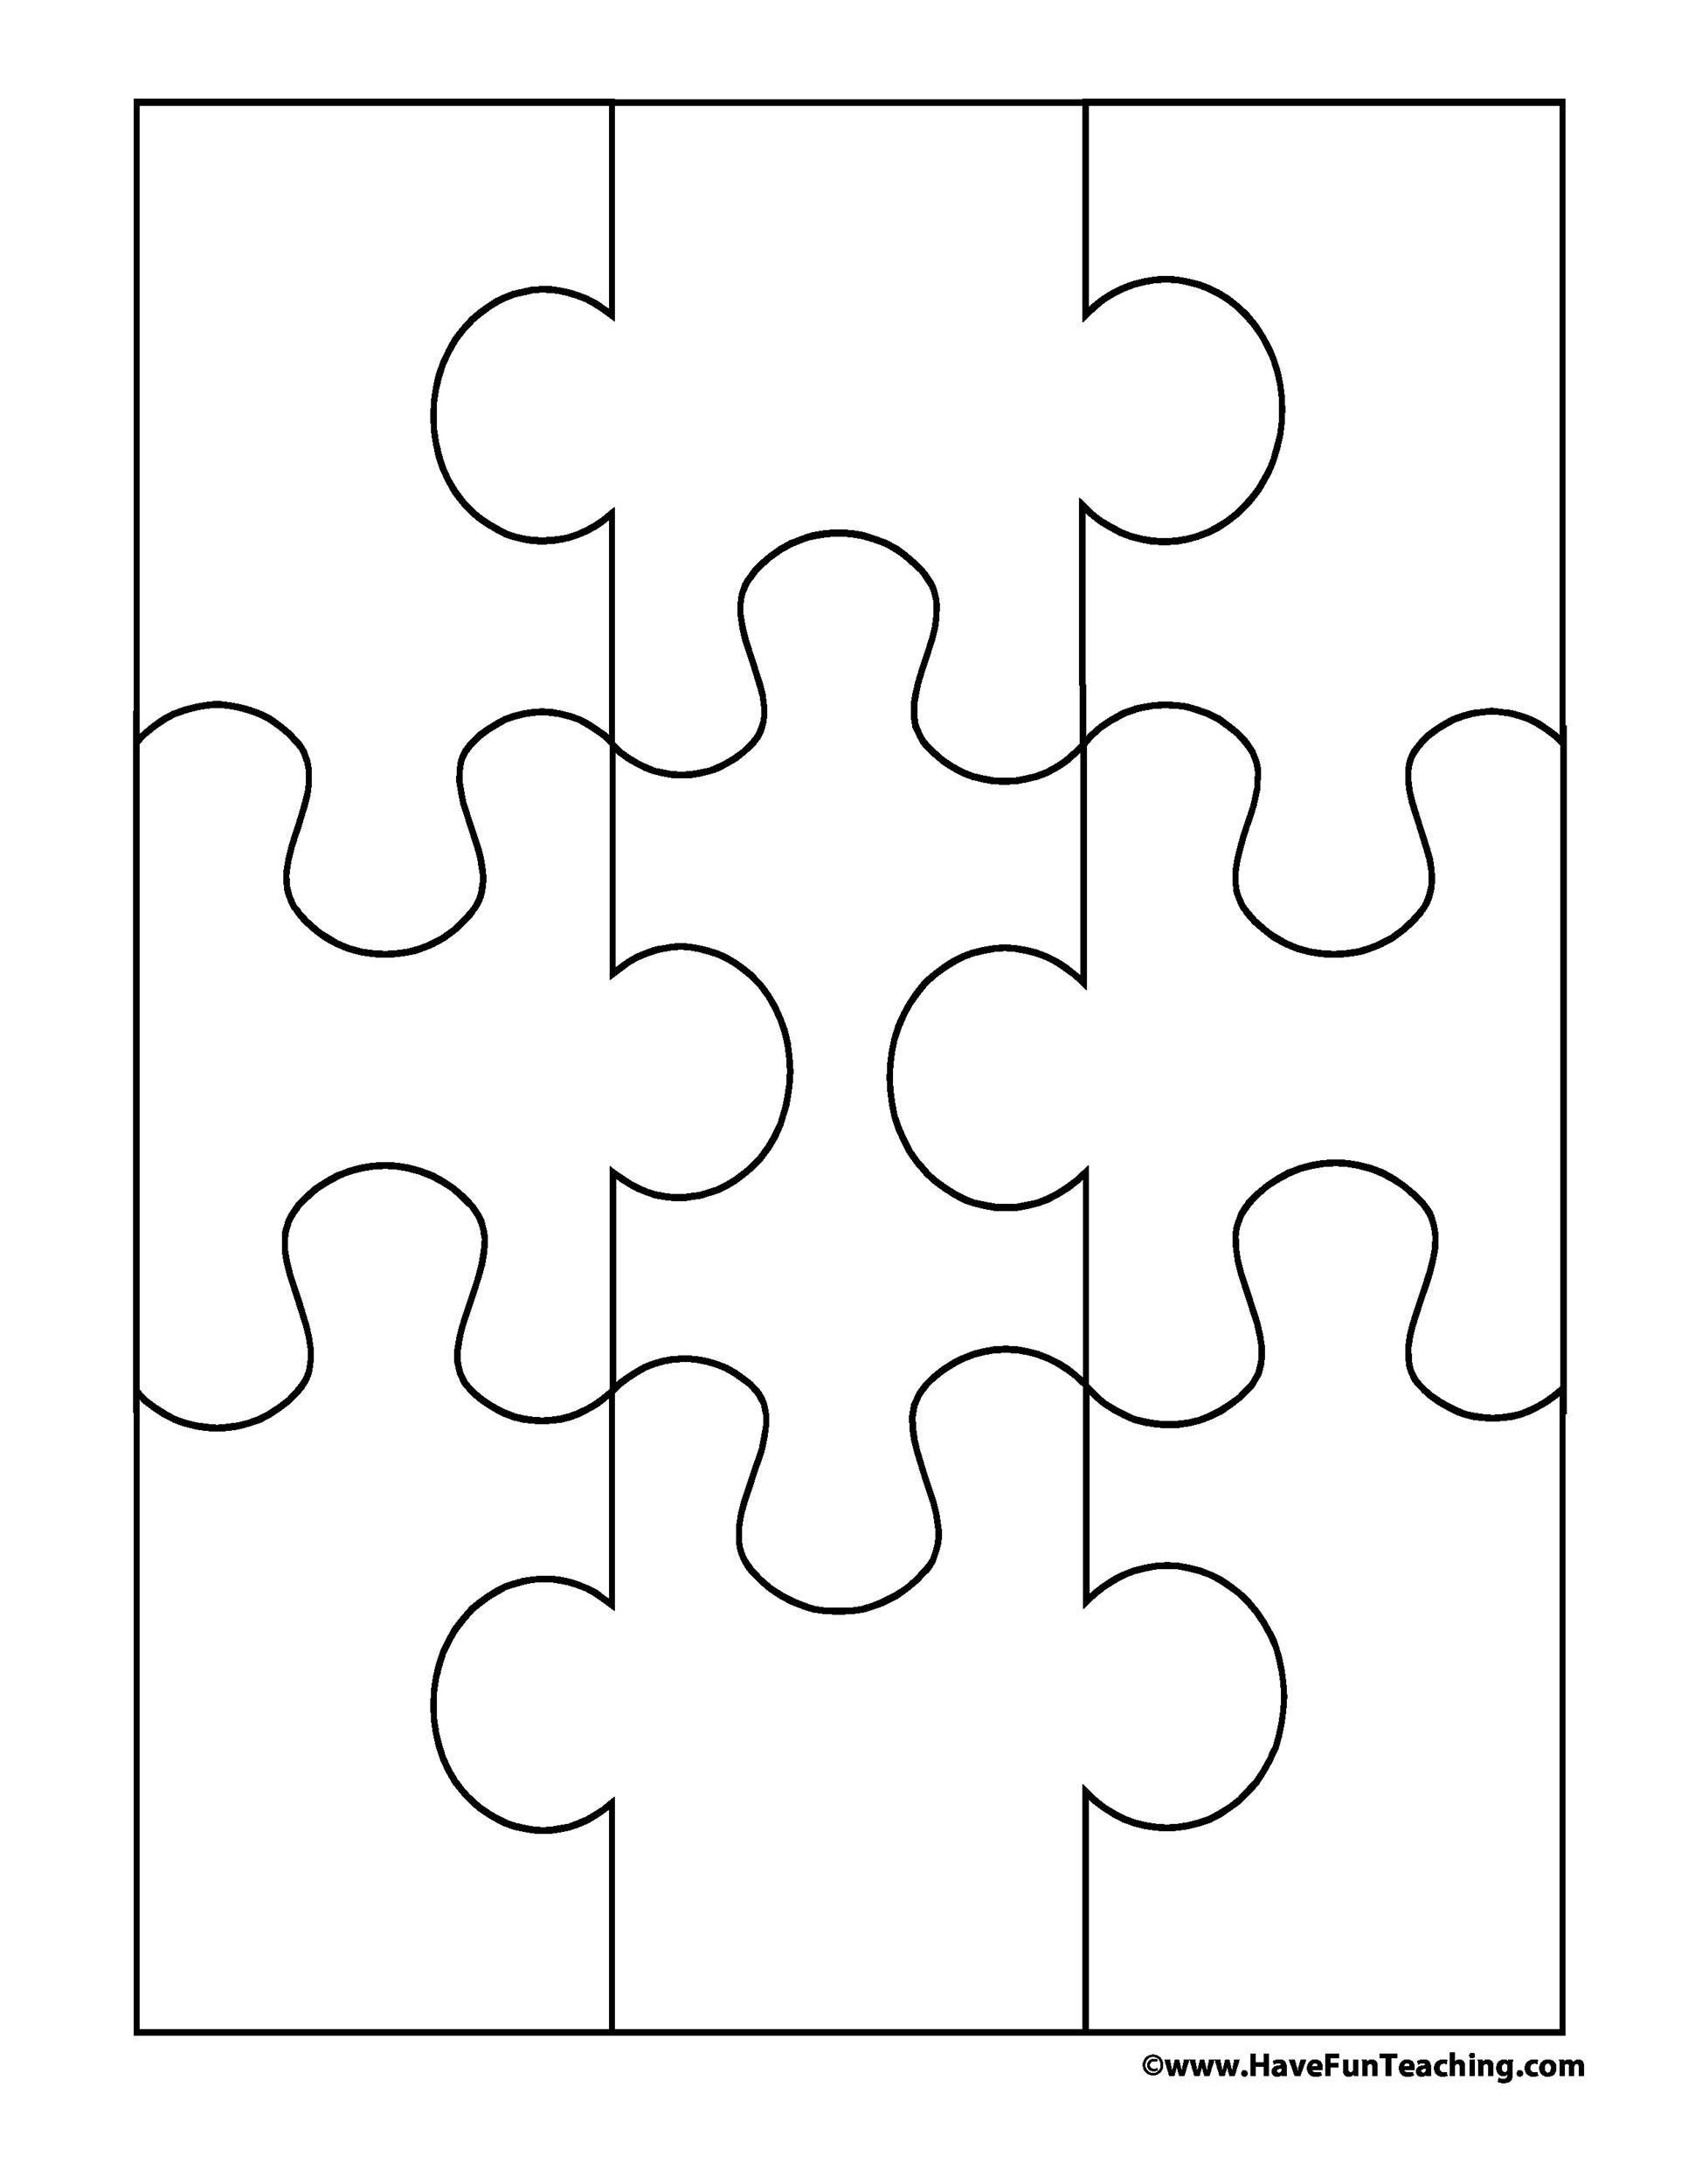puzzle piece: (434, 69, 1310, 808), (599, 518, 1112, 1633), (98, 656, 778, 1445), (1032, 684, 1596, 1459)
